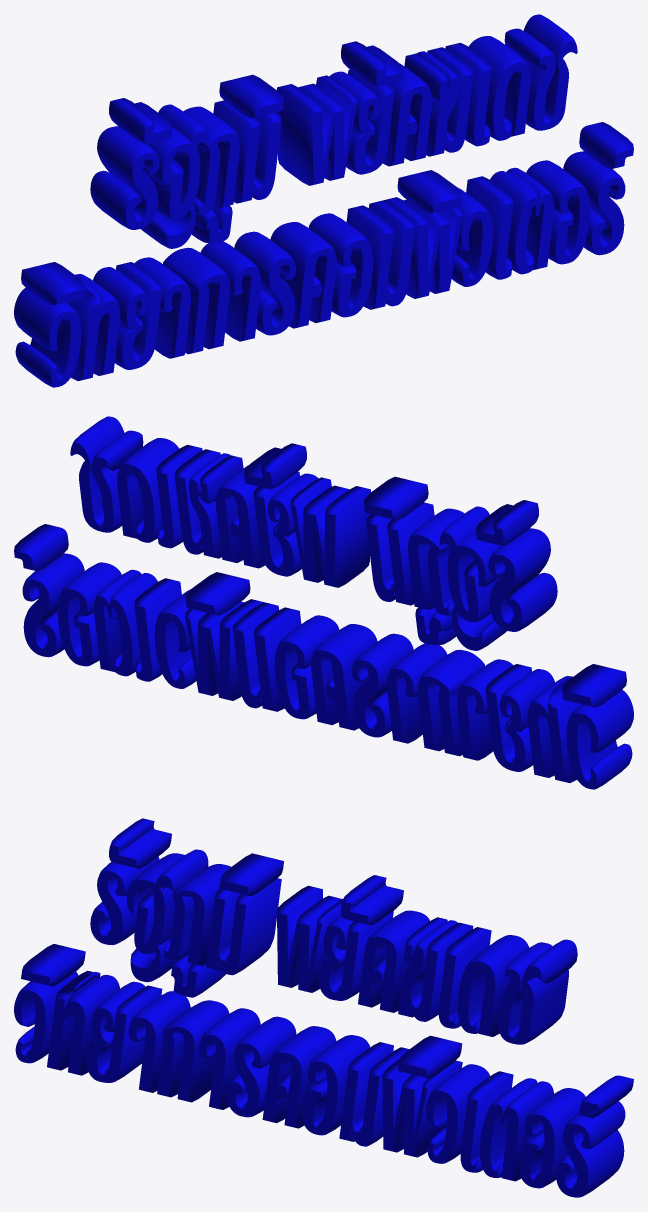
3 renders of one model, top to bottom at view 1: azimuth 30°, elevation 25°; view 2: azimuth 150°, elevation 25°; view 3: azimuth 330°, elevation 25°, orthographic.
Parts seen in each view (by area): view 1: Text; view 2: Text; view 3: Text.
Part boxes in pixels (left/top/right/bottom): Text: left=14, top=14, right=633, bottom=387; Text: left=14, top=416, right=633, bottom=789; Text: left=14, top=818, right=633, bottom=1197.
Size of the model in its own units: 2 by 0.8 by 0.2085.
